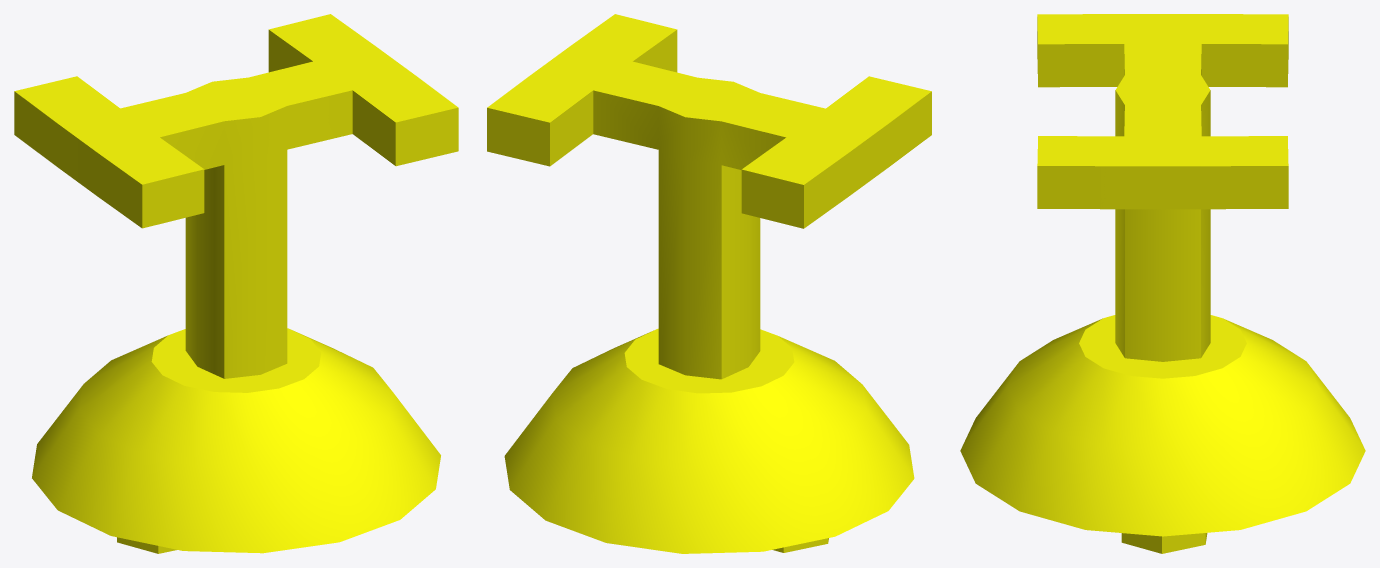
File: InsulinKey.fbx
3 views of the same model, side by side, from view 1: azimuth 30°, elevation 25°; view 2: azimuth 150°, elevation 25°; view 3: azimuth 270°, elevation 25° (orthographic).
Visible parts, largest first — view 1: OsStyleInsulyn; view 2: OsStyleInsulyn; view 3: OsStyleInsulyn.
Part boxes in pixels (x1,y1,x2,y2): OsStyleInsulyn: (14, 14, 458, 553); OsStyleInsulyn: (487, 14, 931, 553); OsStyleInsulyn: (960, 14, 1365, 553).
Bounding box in the file's own units: 160 × 177 × 160.
